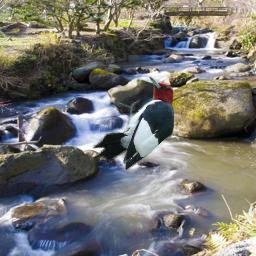Woodpecker: (92, 76, 174, 170)
